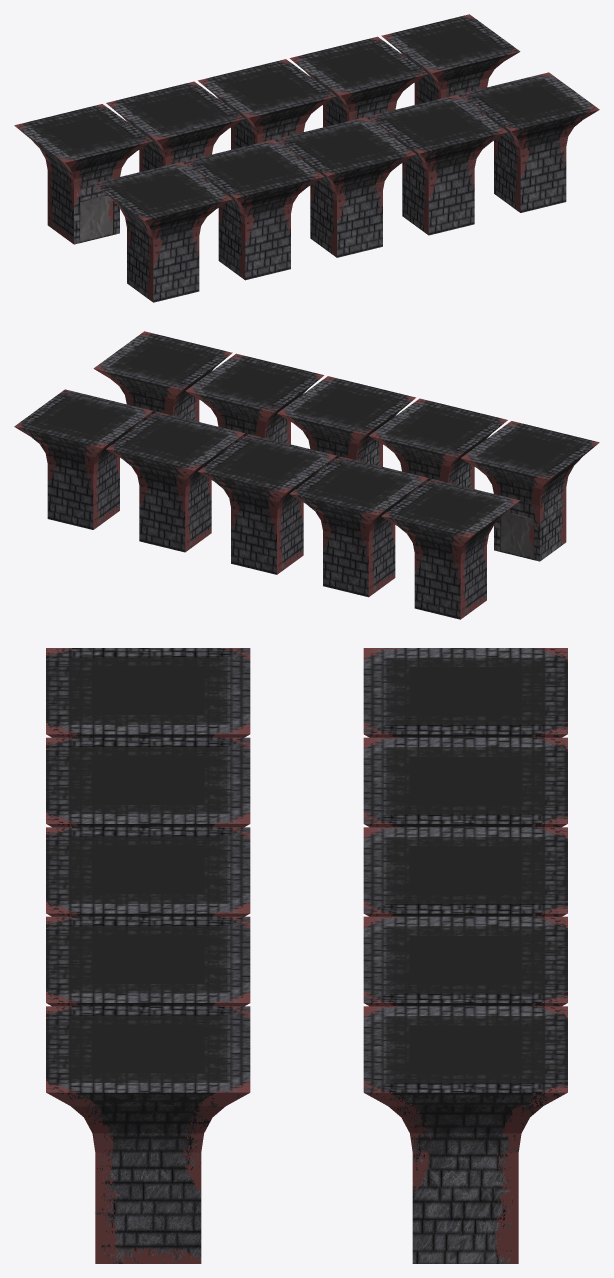
The model's file is catacomb-tomb.fbx.
The picture shows the model from 3 angles, top to bottom: view 1: azimuth 30°, elevation 25°; view 2: azimuth 150°, elevation 25°; view 3: azimuth 270°, elevation 25°; orthographic projection. The views are drawn at different scales.
Visible parts, largest first — view 1: pCube10 (×5), Pillars, Pillars4, Pillars2, Pillars1, Pillars3; view 2: pCube10 (×5), Pillars, Pillars4, Pillars1, Pillars2, Pillars3; view 3: pCube10 (×5), Pillars4, Pillars3, Pillars1, Pillars2, Pillars.
Boxes of the visible parts, x1=… form: pCube10 (×5): x1=93, y1=72, x2=599, y2=302; Pillars: x1=14, y1=104, x2=152, y2=244; Pillars4: x1=381, y1=14, x2=520, y2=112; Pillars2: x1=198, y1=59, x2=336, y2=156; Pillars1: x1=106, y1=81, x2=244, y2=179; Pillars3: x1=289, y1=36, x2=428, y2=135; pCube10 (×5): x1=93, y1=331, x2=599, y2=561; Pillars: x1=381, y1=479, x2=520, y2=619; Pillars4: x1=14, y1=389, x2=152, y2=529; Pillars1: x1=289, y1=456, x2=428, y2=597; Pillars2: x1=198, y1=434, x2=336, y2=574; Pillars3: x1=106, y1=412, x2=244, y2=552; pCube10 (×5): x1=46, y1=648, x2=250, y2=1263; Pillars4: x1=363, y1=1006, x2=567, y2=1263; Pillars3: x1=363, y1=916, x2=567, y2=1006; Pillars1: x1=363, y1=737, x2=567, y2=827; Pillars2: x1=363, y1=827, x2=567, y2=916; Pillars: x1=363, y1=648, x2=567, y2=737.
Bounding box in the file's own units: 19.86 × 4 × 9.85.
